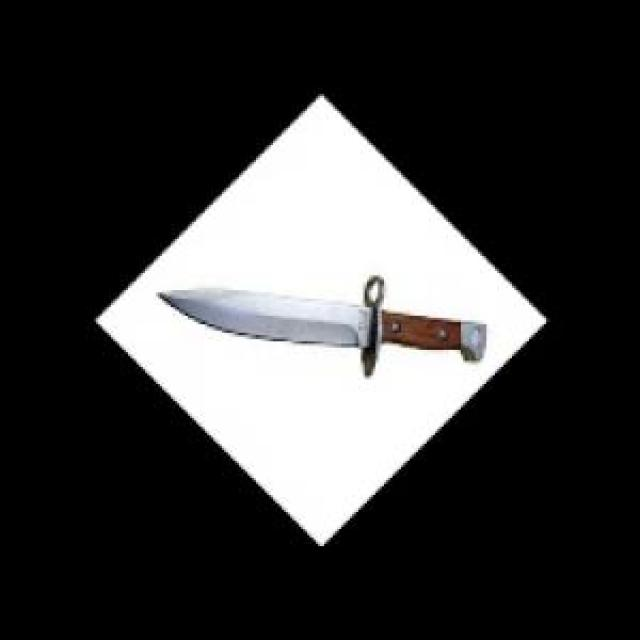knife: (152, 268, 490, 378)
